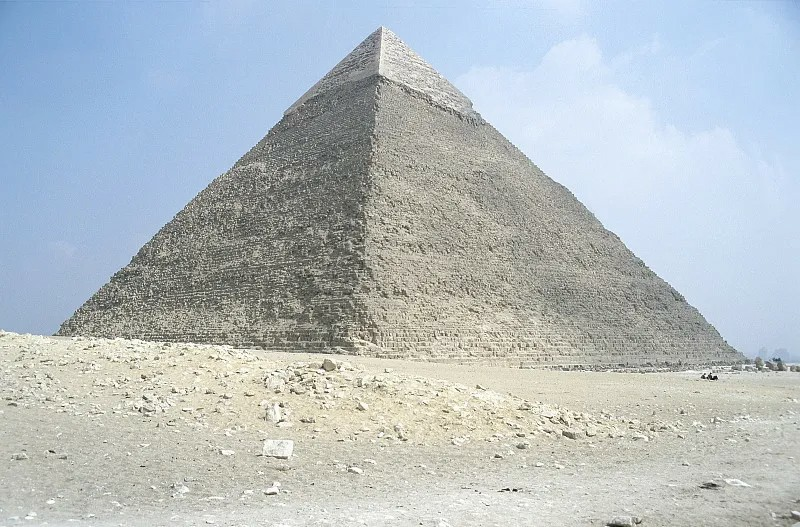Pyramid: (48, 25, 751, 365)
